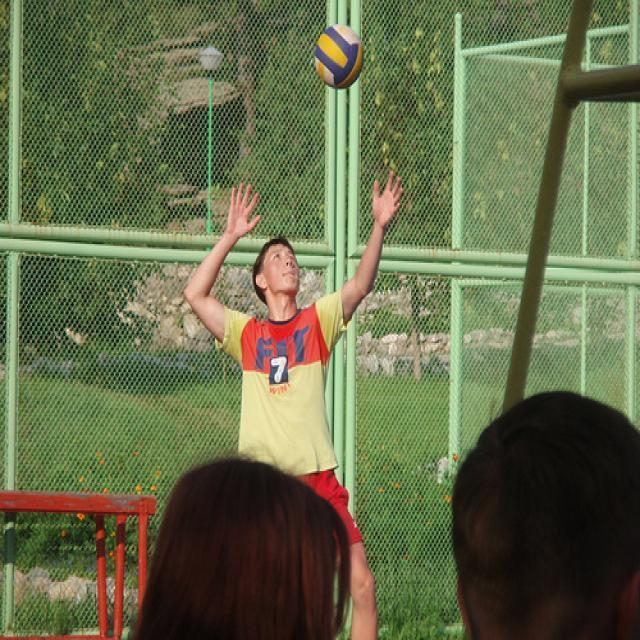volleyball: (315, 24, 365, 90)
